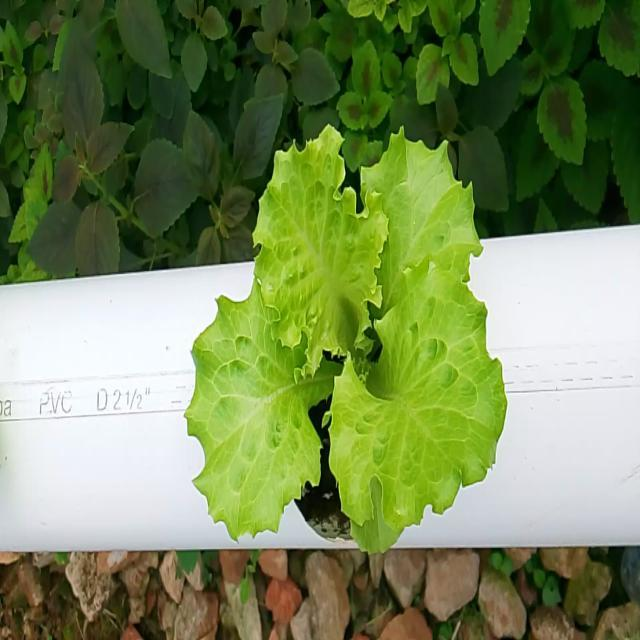Baby: (180, 114, 504, 548)
